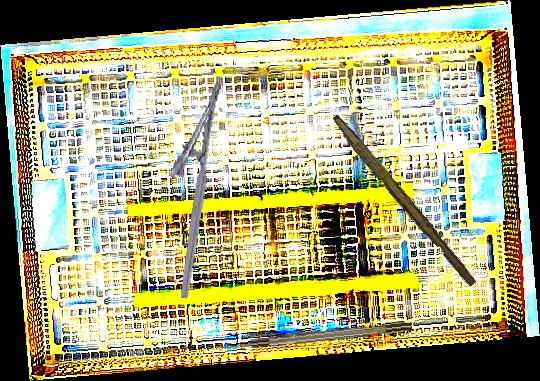Hook Surgical: (218, 321, 413, 353)
Needle Holder: (150, 77, 224, 300)
Scalpel Handle: (326, 113, 481, 289)
